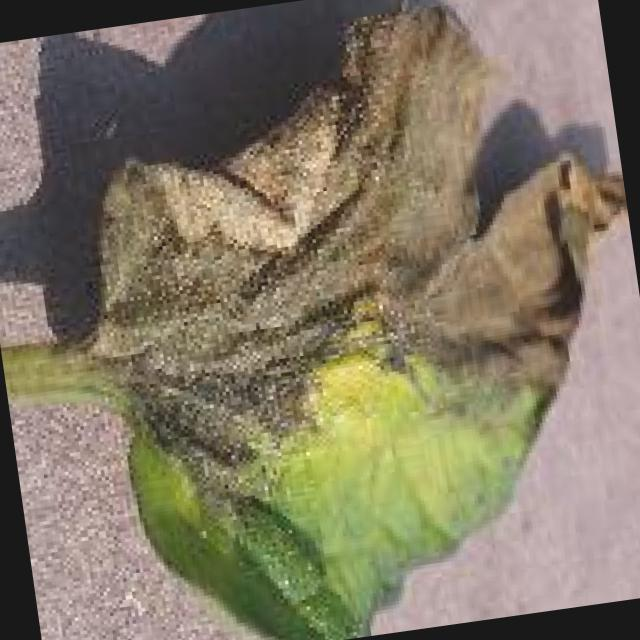leaf blight: (1, 0, 629, 640)
